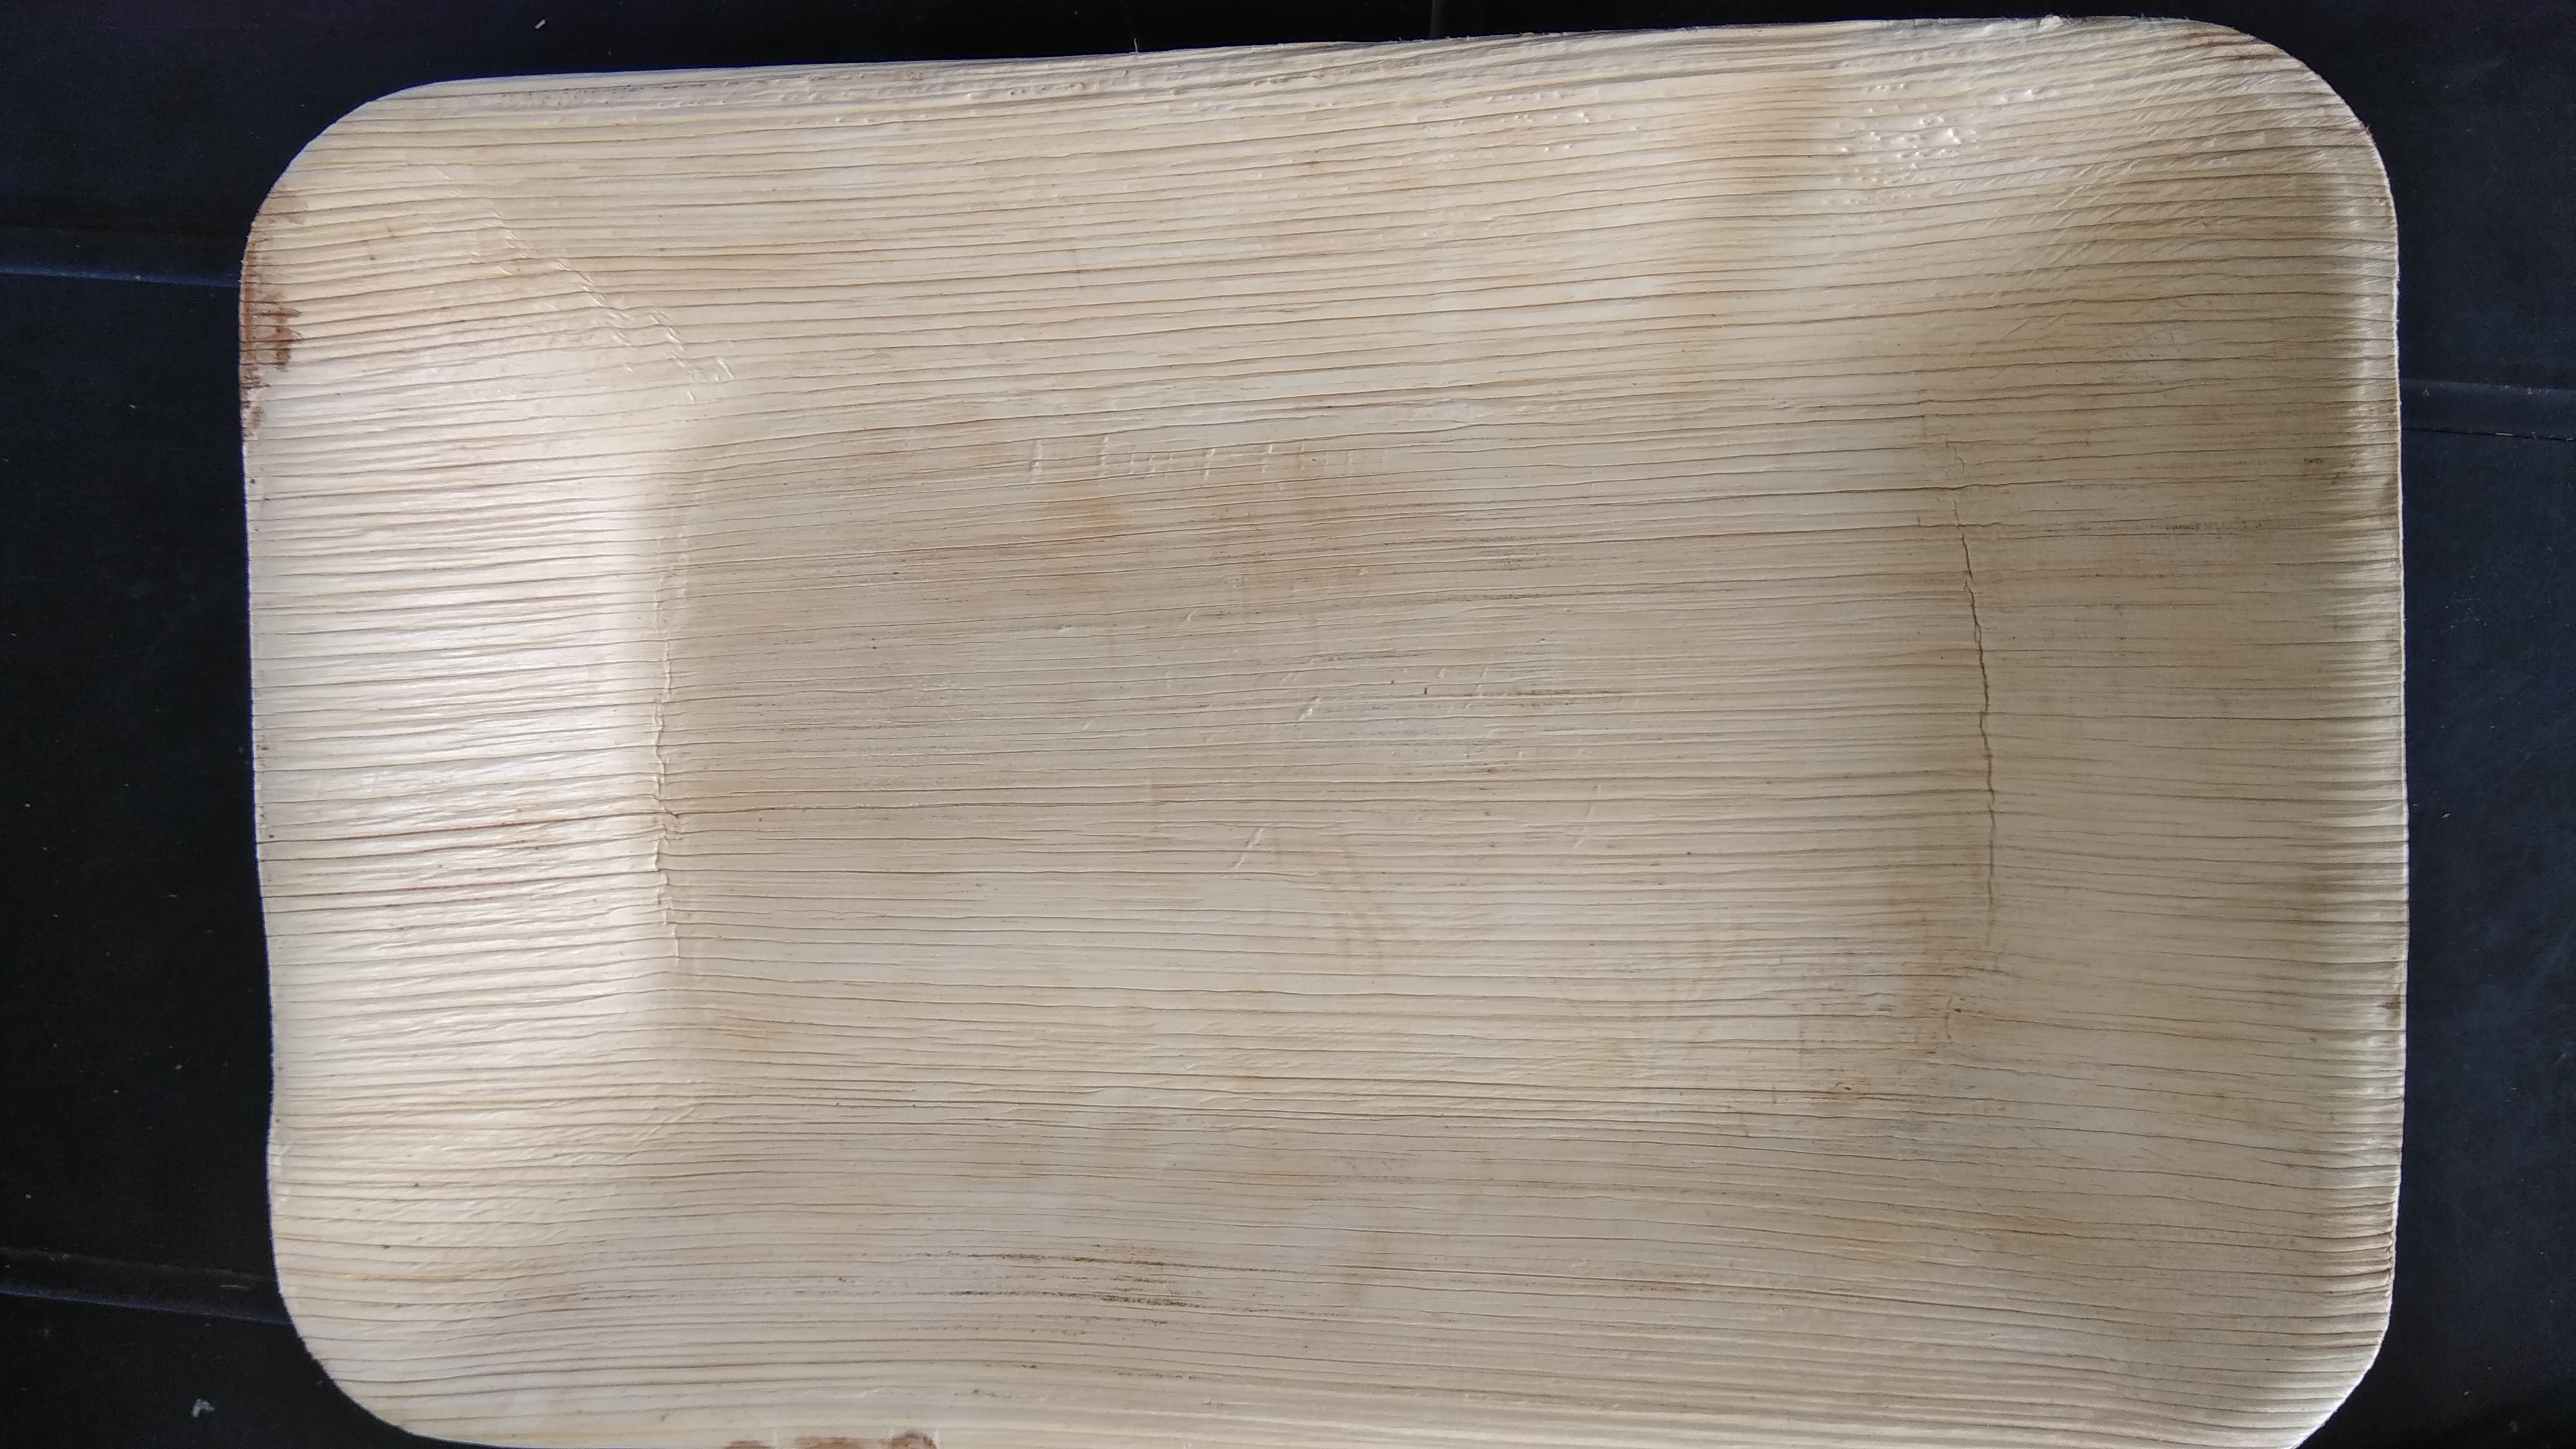areca plate: (214, 42, 2410, 1449)
